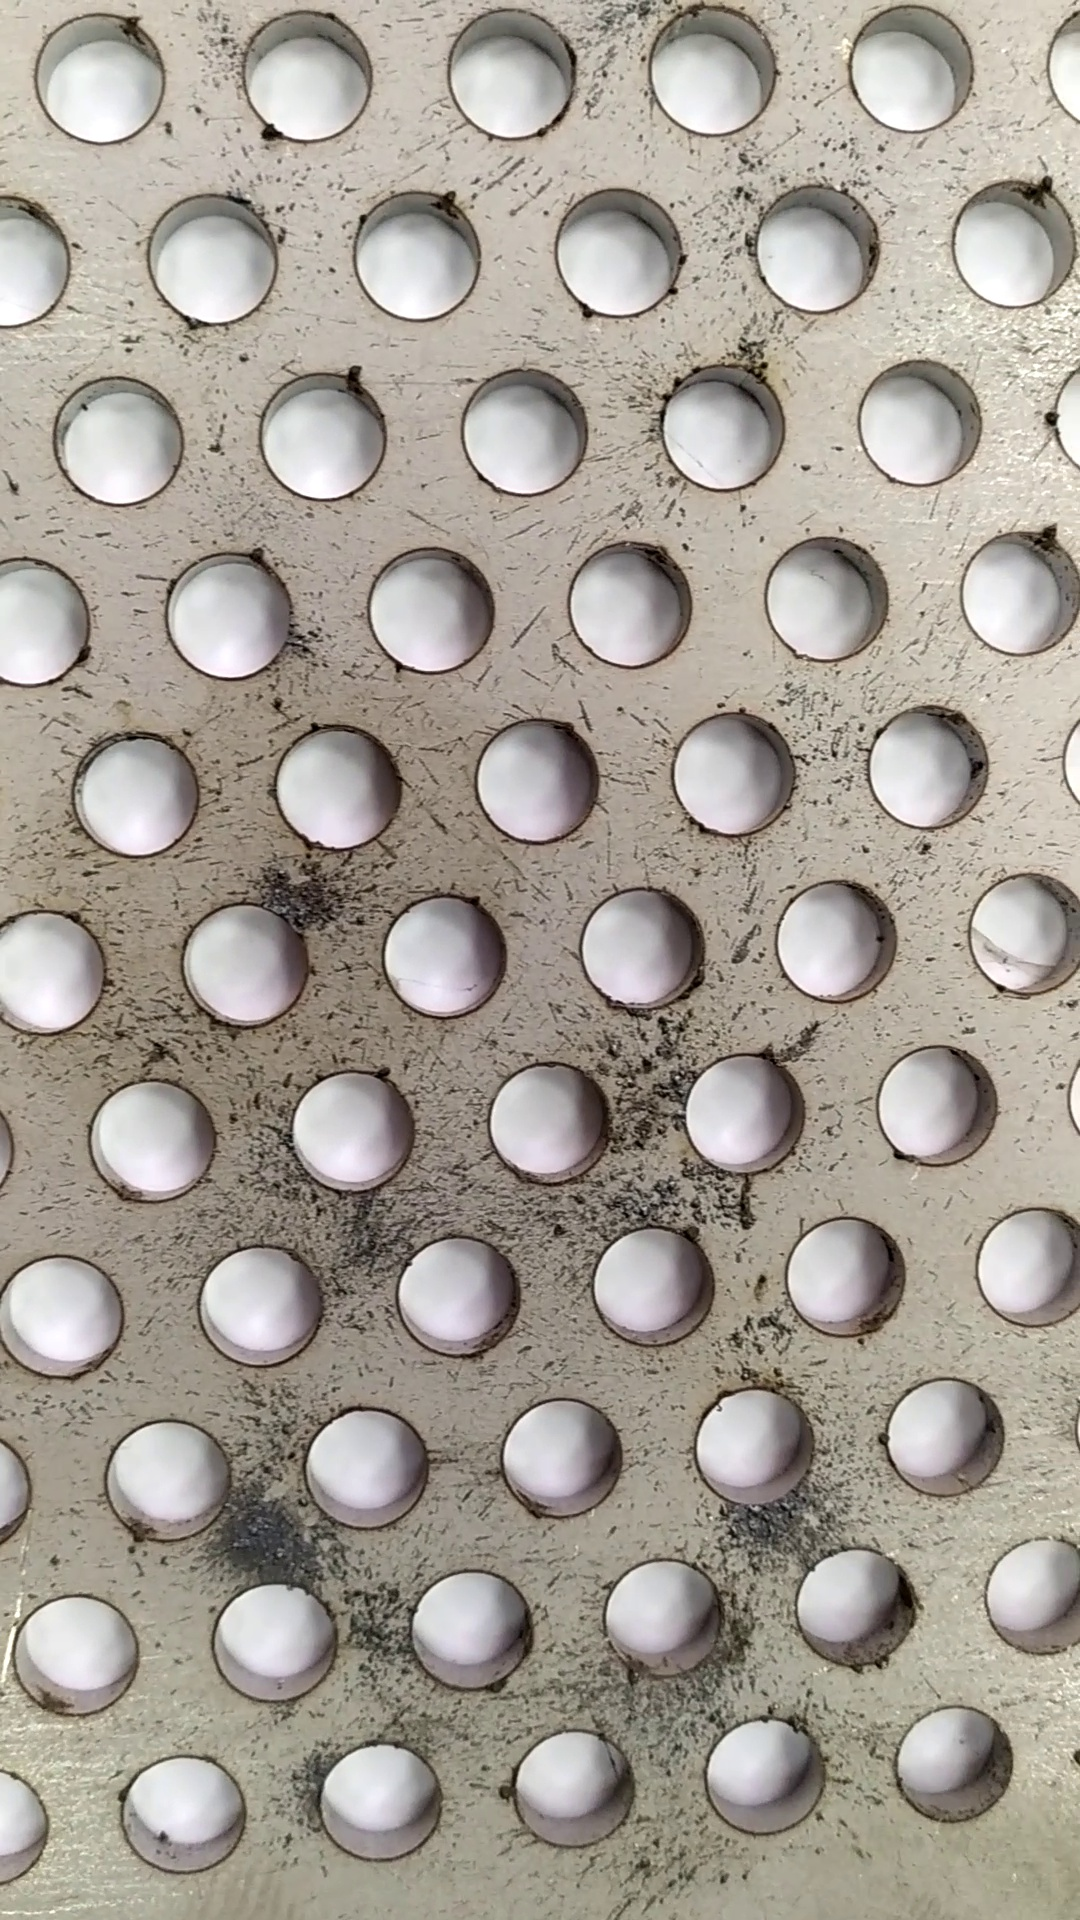Hole: (57, 713, 208, 872), (220, 1, 381, 150), (462, 709, 620, 858), (340, 181, 502, 326), (355, 538, 508, 687), (740, 177, 899, 319), (753, 520, 899, 673), (136, 183, 285, 332), (265, 711, 419, 855), (243, 368, 396, 512), (833, 1, 989, 142), (843, 349, 998, 491), (76, 1068, 228, 1211), (679, 1034, 822, 1185), (26, 7, 179, 148), (40, 368, 185, 513), (434, 7, 587, 144), (8, 1578, 152, 1724), (665, 703, 812, 844), (861, 1034, 1010, 1174), (634, 5, 793, 136), (454, 357, 596, 502), (932, 175, 1080, 315), (553, 535, 696, 676), (371, 880, 510, 1025), (175, 897, 324, 1033), (471, 1058, 622, 1191), (492, 1389, 638, 1526), (202, 1577, 353, 1709), (541, 181, 688, 315), (306, 1734, 454, 1869), (575, 1222, 724, 1356), (655, 352, 794, 495), (157, 553, 302, 688), (771, 872, 916, 1007), (502, 1720, 644, 1858), (100, 1414, 245, 1548), (884, 1695, 1026, 1830), (112, 1746, 257, 1879), (793, 1538, 930, 1677), (696, 1702, 829, 1846), (857, 699, 996, 836), (193, 1240, 336, 1371), (1, 1247, 140, 1383), (692, 1377, 824, 1516), (404, 1567, 547, 1695), (957, 862, 1080, 1011), (781, 1215, 918, 1346), (392, 1230, 531, 1360), (301, 1404, 440, 1534), (949, 524, 1080, 658), (884, 1373, 1014, 1507), (575, 884, 713, 1009), (287, 1064, 419, 1195), (600, 1553, 735, 1681)
